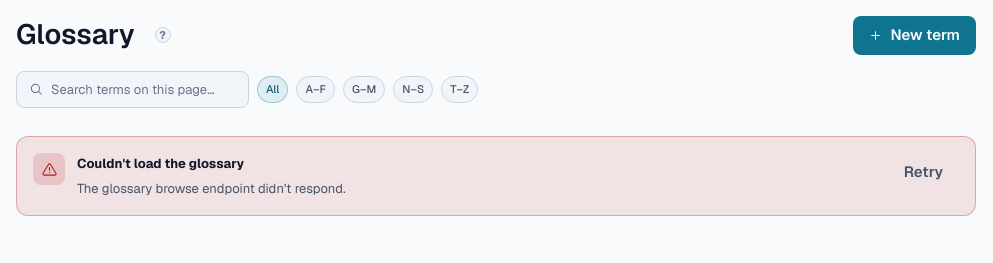
GlossaryPage › shows an ErrorCard with retry when the browse fetch fails
This screenshot has width=993, height=263.
expect the text "Couldn't load the glossary" is shown: met, box [77, 155, 244, 172]
Click the button "Retry" at (923, 172), box [888, 153, 959, 192]
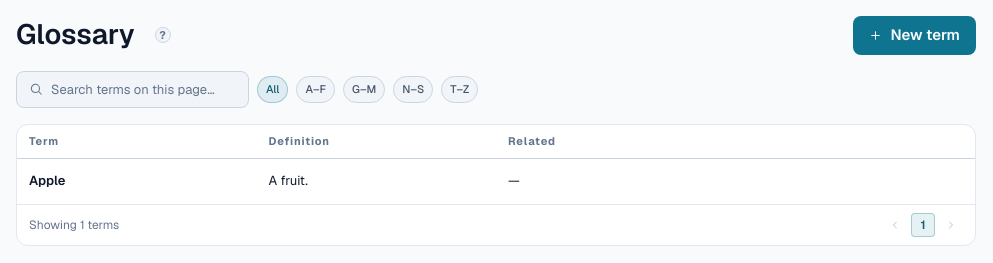
expect the text "Apple" is shown: met, box [29, 171, 65, 191]
